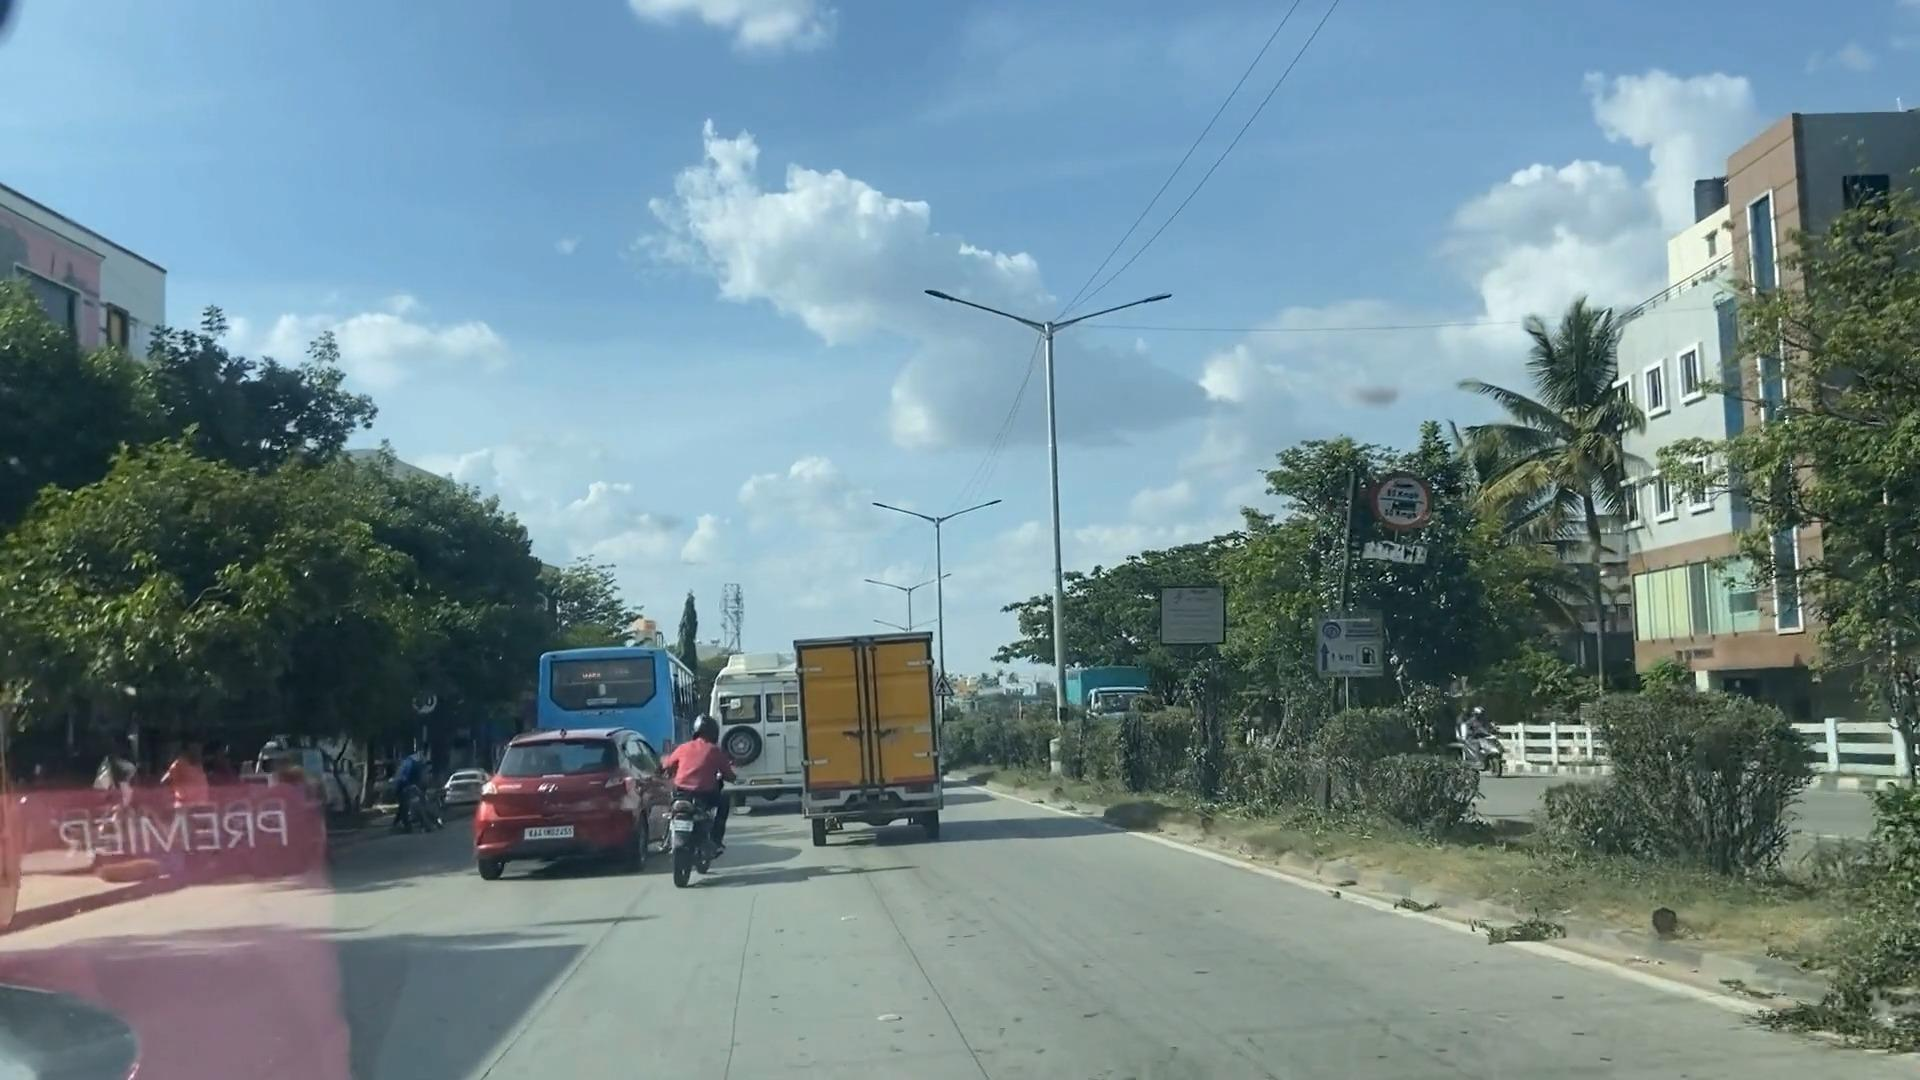HMV: (777, 622, 940, 823), (549, 638, 683, 766), (738, 673, 814, 810)
LMV: (483, 732, 657, 862), (669, 700, 715, 872)
